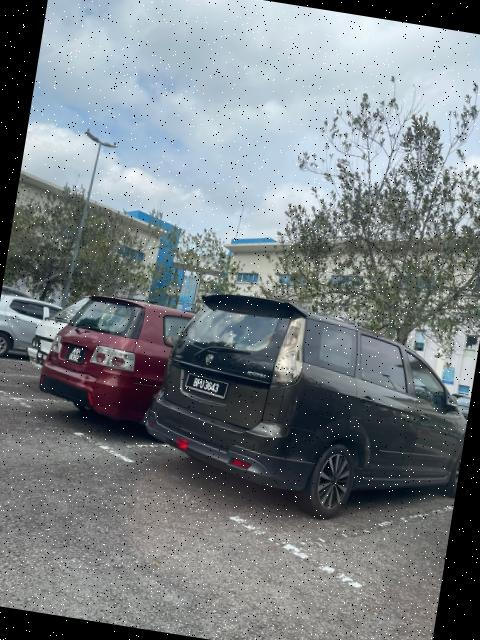License_Plate: (182, 371, 230, 404), (60, 339, 92, 370)
car: (134, 282, 480, 534), (34, 280, 248, 444)
